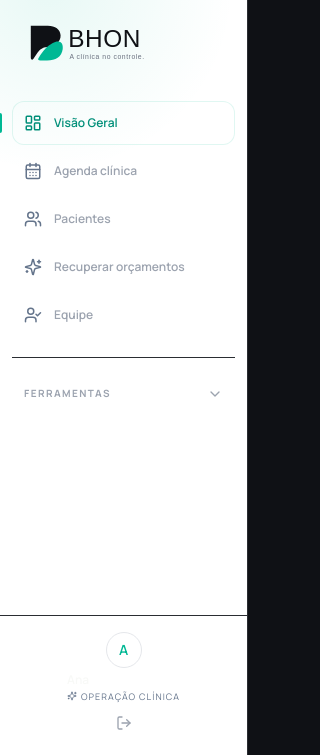
Test: Sidebar › mantém a navegação diária curta e revela ferramentas sob demanda
Expected: the link "Configurações" is not shown
Click the button with aria-label "Mostrar ferramentas de gestão".
click(124, 394)  # box [12,374,235,414]
(page scrolled)
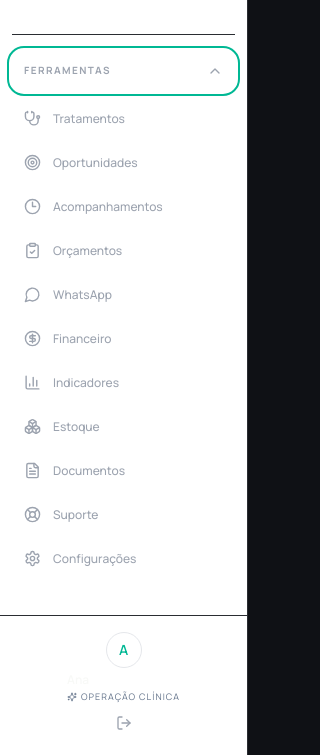
Result: the link "Configurações" is shown at [24,550,136,567]
